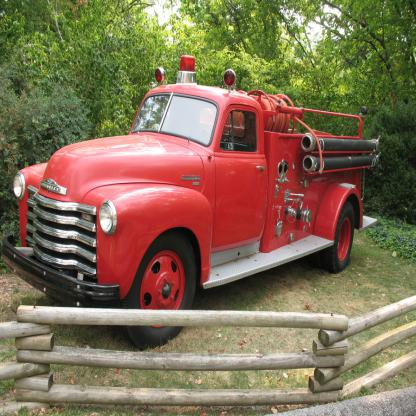Car: (0, 55, 382, 348)
Truck: (0, 55, 382, 352)
